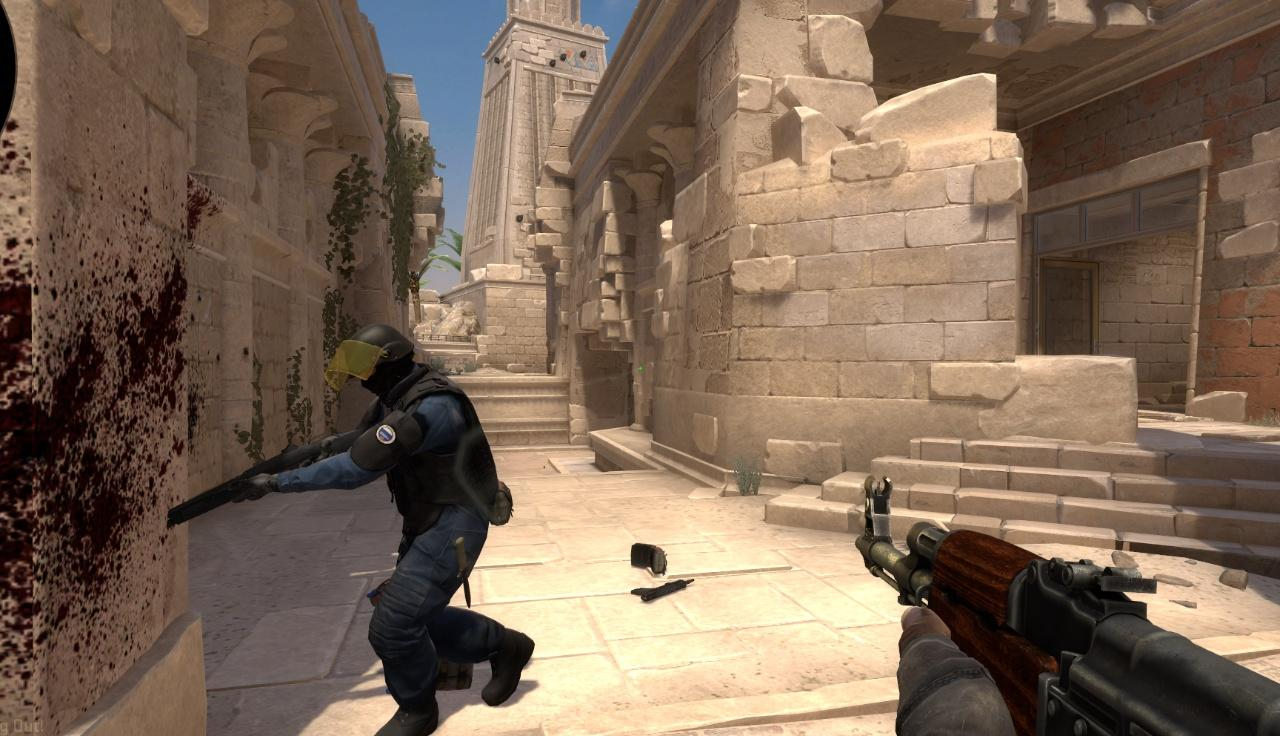ct: (241, 323, 527, 730)
cthead: (326, 322, 418, 397)
rifle: (857, 485, 1280, 732)
